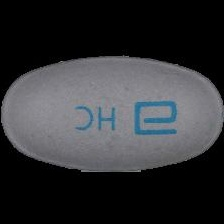21695-163: (0, 0, 224, 224)
